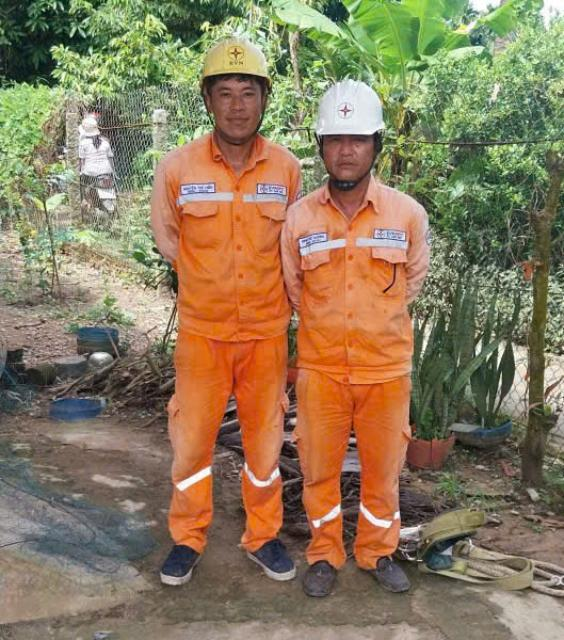helmet: (291, 65, 390, 146), (196, 34, 301, 98)
shoes: (151, 528, 208, 595), (288, 540, 338, 604), (241, 531, 291, 584), (359, 548, 410, 591)
